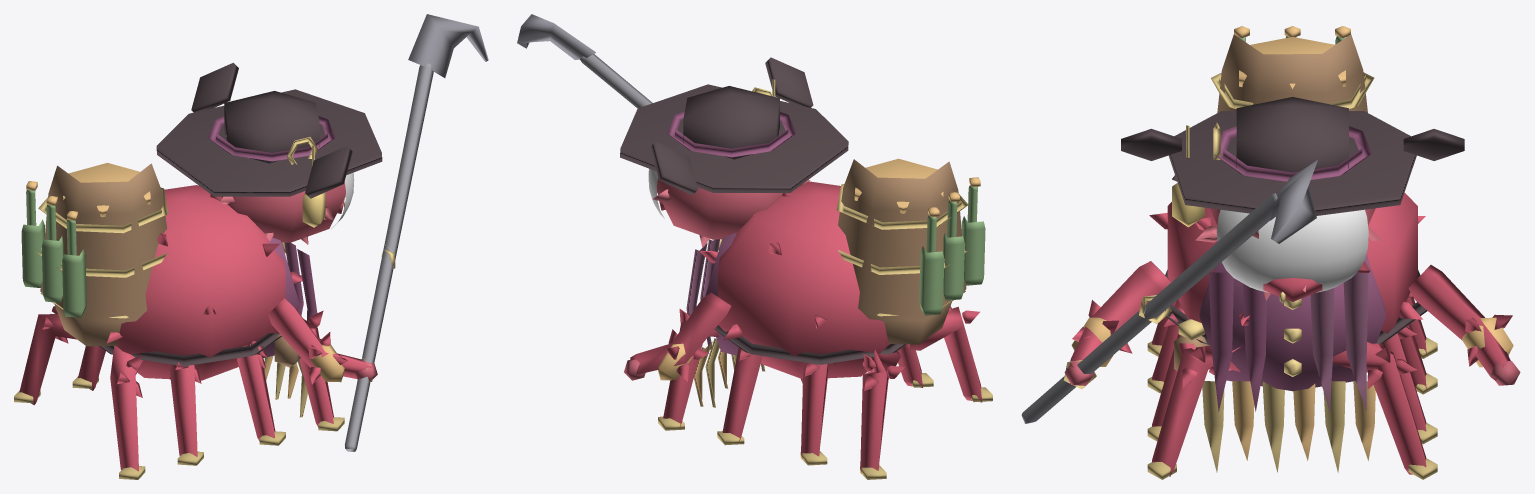
The model's file is scarlith.glb.
3 renders of one model, left to right at view 1: azimuth 30°, elevation 25°; view 2: azimuth 150°, elevation 25°; view 3: azimuth 270°, elevation 25°, orthographic. The views are drawn at different scales.
Parts seen in each view (by area): view 1: torso, head, extra, arm_f, leg_b, leg_f, weapon; view 2: torso, head, extra, leg_b, leg_f, arm_b, arm_f; view 3: torso, head, arm_f, leg_f, extra, face, arm_b, leg_b, weapon.
Part boxes in pixels (x1,y1,x2,y2): torso: (99, 185, 317, 417); head: (156, 62, 382, 244); extra: (21, 162, 168, 346); arm_f: (268, 14, 488, 451); leg_b: (14, 306, 203, 479); leg_f: (237, 310, 344, 445); weapon: (302, 145, 325, 227); torso: (686, 181, 905, 407); head: (620, 57, 848, 247); extra: (837, 158, 985, 344); leg_b: (800, 306, 992, 479); leg_f: (658, 309, 762, 445); arm_b: (624, 292, 731, 381); arm_f: (517, 14, 652, 108); torso: (1149, 192, 1427, 472); head: (1121, 97, 1464, 303); arm_f: (1021, 160, 1317, 423); leg_f: (1147, 308, 1437, 479); extra: (1211, 26, 1374, 112); face: (1216, 209, 1368, 292); arm_b: (1408, 265, 1520, 385); leg_b: (1147, 292, 1437, 394); weapon: (1172, 125, 1204, 227).
Size of the model in its own units: 3.74 by 2.72 by 2.97.
